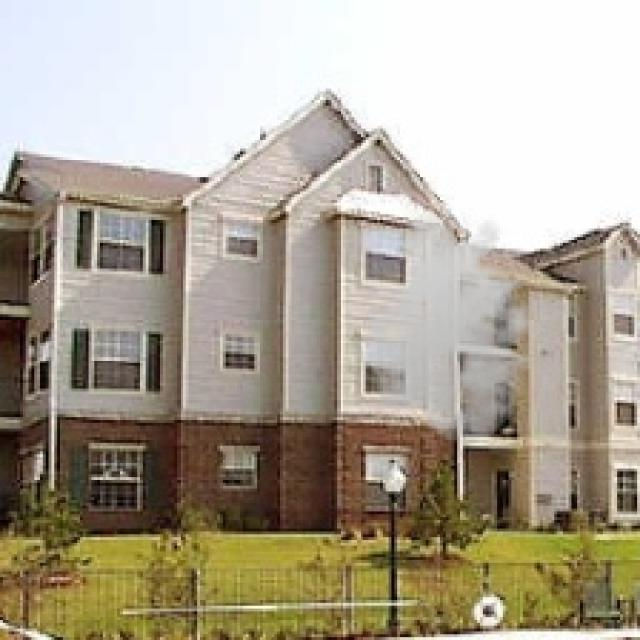smoke: (354, 208, 554, 443)
